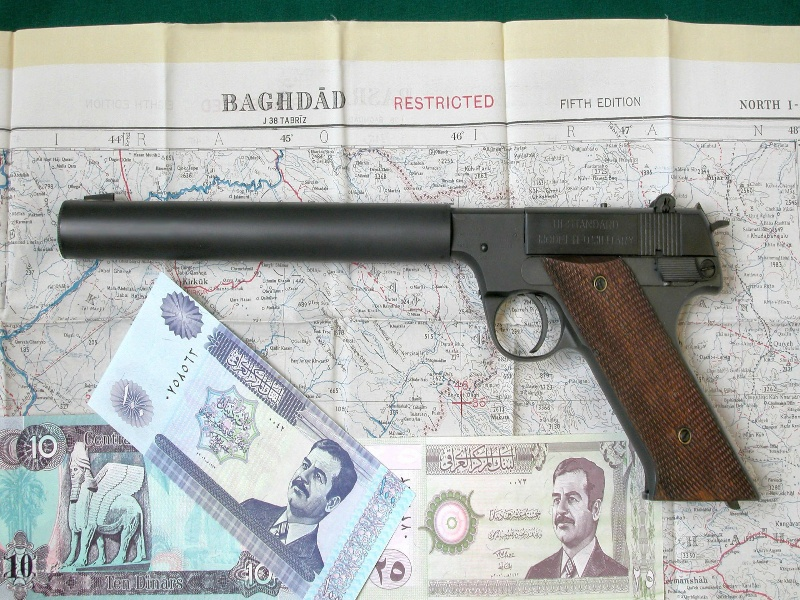cash: (87, 271, 416, 600), (1, 415, 300, 596), (355, 438, 664, 599)
weapon: (59, 193, 761, 509)
